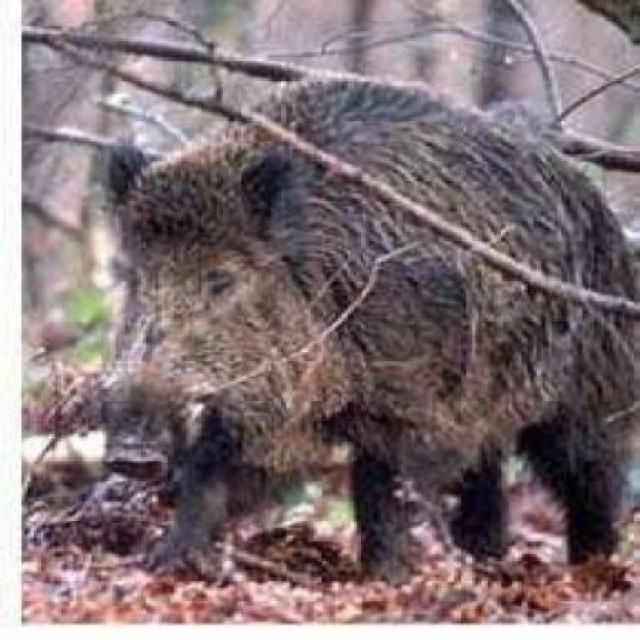pig: (43, 83, 639, 613)
